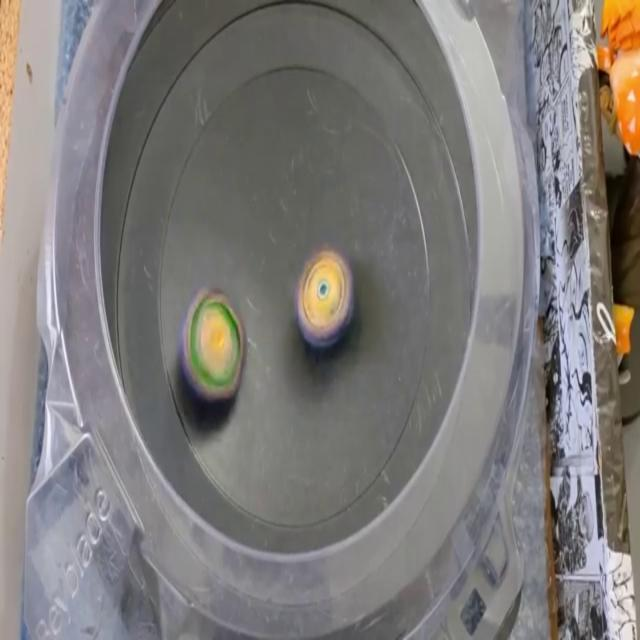Beyblade: (179, 286, 246, 404), (294, 243, 358, 349)
